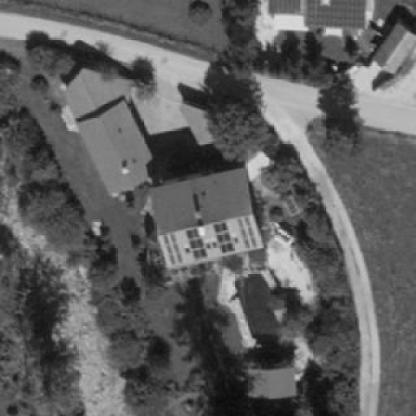solar-pv-panel: (309, 0, 366, 28), (212, 222, 236, 257), (236, 216, 259, 251), (186, 227, 209, 262), (161, 232, 184, 266), (268, 0, 301, 12)
